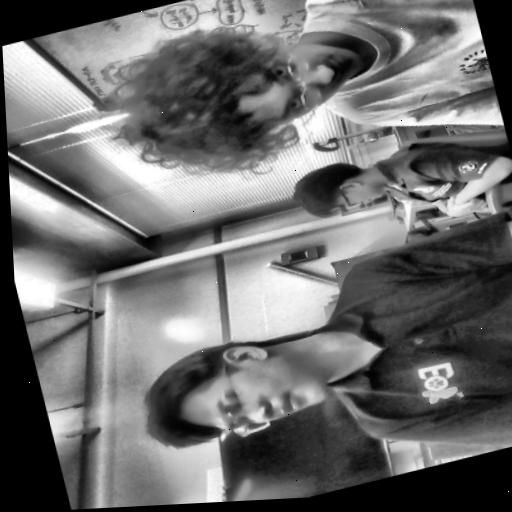Daifuku: (88, 0, 379, 203)
Not Daifuku: (129, 317, 340, 455), (285, 149, 388, 222)
